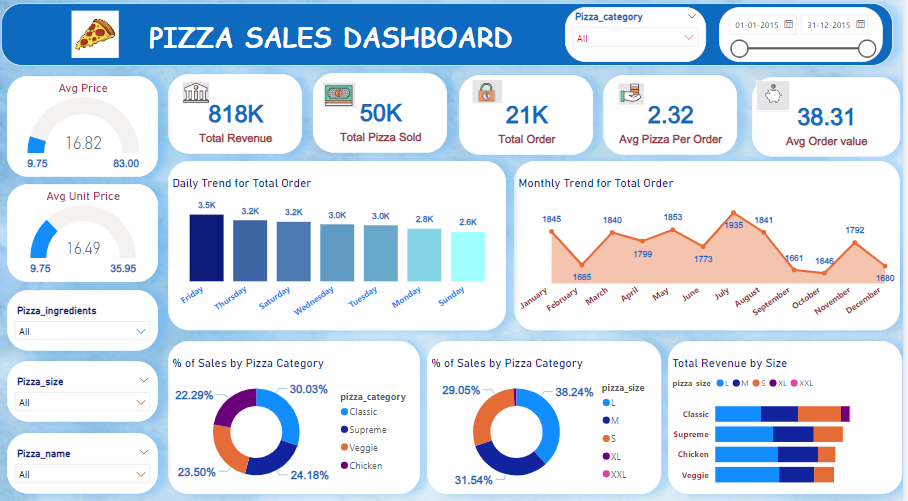

The page's visual inventory and layout, read from the dashboard file:
{"tool":"powerbi","page":{"name":"Page 1","canvas":[1280,720],"ordinal":0},"visuals":[{"type":"textbox","box":[2.8,11.3,1264.3,89.3],"z":0},{"type":"card","fields":{"Values":["pizza_sales.Total Revenue"]},"box":[239.5,112,189.9,113.4],"z":1000},{"type":"card","fields":{"Values":["pizza_sales.Avg Order value"]},"box":[1067.2,116.2,209.8,113.4],"z":2000},{"type":"card","fields":{"Values":["pizza_sales.Avg Pizza Per Order"]},"box":[856.1,113.4,189.9,113.4],"z":3000},{"type":"card","fields":{"Values":["pizza_sales.Total Order"]},"box":[652,113.4,189.9,113.4],"z":4000},{"type":"card","fields":{"Values":["pizza_sales.Total Pizza Sold"]},"box":[445,110.6,189.9,113.4],"z":5000},{"type":"areaChart","title":"Monthly Trend for Total Order","fields":{"Category":["pizza_sales.order_date.Variation.Date Hierarchy.Month"],"Y":["pizza_sales.Total Order"]},"box":[729.9,235.3,547.1,239.5],"z":6000},{"type":"slicer","fields":{"Values":["pizza_sales.pizza_category"]},"box":[802.2,17,199.8,78],"z":7000},{"type":"slicer","fields":{"Values":["pizza_sales.order_date"]},"box":[1020.5,17,232.4,78],"z":8000},{"type":"image","box":[870.2,120.5,51,39.7],"z":9000},{"type":"image","box":[455,116.2,55.3,51],"z":10000},{"type":"image","box":[666.1,110.6,52.4,53.9],"z":11000},{"type":"image","box":[255.1,116.2,48.2,43.9],"z":12000},{"type":"image","box":[1067.2,116.2,58.1,53.9],"z":13000},{"type":"clusteredColumnChart","title":"Daily Trend for Total Order","fields":{"Y":["pizza_sales.Total Order"],"Category":["pizza_sales.Day Name"]},"box":[239.5,235.3,479.1,239.5],"z":14000},{"type":"donutChart","title":"% of Sales by Pizza Category","fields":{"Category":["pizza_sales.pizza_category"],"Y":["pizza_sales.Total Pizza Sold"]},"box":[239.5,490.4,357.2,216.9],"z":15000},{"type":"donutChart","title":"% of Sales by Pizza Category","fields":{"Category":["pizza_sales.pizza_size"],"Y":["pizza_sales.Total Pizza Sold"]},"box":[606.6,490.4,331.7,216.9],"z":16000},{"type":"barChart","title":"Total Revenue by Size","fields":{"Category":["pizza_sales.pizza_category"],"Y":["pizza_sales.Total Revenue"],"Series":["pizza_sales.pizza_size"]},"box":[948.2,490.4,331.7,216.9],"z":17000},{"type":"slicer","fields":{"Values":["pizza_sales.pizza_name"]},"box":[11.3,620.8,214,86.5],"z":18000},{"type":"slicer","fields":{"Values":["pizza_sales.pizza_ingredients"]},"box":[11.3,418.1,214,86.5],"z":19000},{"type":"slicer","fields":{"Values":["pizza_sales.pizza_size"]},"box":[11.3,518.7,214,86.5],"z":20000},{"type":"gauge","title":"Avg Price","fields":{"MinValue":["Min(pizza_sales.total_price)"],"MaxValue":["Max(pizza_sales.total_price)1"],"Y":["Avg(pizza_sales.total_price)2"]},"box":[11.3,114.8,214,143.1],"z":21000},{"type":"gauge","title":"Avg Unit Price","fields":{"MinValue":["Min(pizza_sales.unit_price)1"],"MaxValue":["Max(pizza_sales.unit_price)"],"Y":["Avg(pizza_sales.unit_price)"]},"box":[11.3,267.9,214,138.9],"z":22000},{"type":"image","box":[97.8,14.2,76.5,83.6],"z":23000}]}

Visuals, with their boxes in screenshot pixels (x1, y1, x2, y2), scaled from the page's 1280x720 canvas onto the 908x501 screenshot:
textbox: 2, 8, 899, 70
card - pizza_sales.Total Revenue: 170, 78, 305, 157
card - pizza_sales.Avg Order value: 757, 81, 906, 160
card - pizza_sales.Avg Pizza Per Order: 607, 79, 742, 158
card - pizza_sales.Total Order: 463, 79, 597, 158
card - pizza_sales.Total Pizza Sold: 316, 77, 450, 156
"Monthly Trend for Total Order" areaChart: 518, 164, 906, 330
slicer - pizza_sales.pizza_category: 569, 12, 711, 66
slicer - pizza_sales.order_date: 724, 12, 889, 66
image: 617, 84, 653, 111
image: 323, 81, 362, 116
image: 473, 77, 510, 114
image: 181, 81, 215, 111
image: 757, 81, 798, 118
"Daily Trend for Total Order" clusteredColumnChart: 170, 164, 510, 330
"% of Sales by Pizza Category" donutChart: 170, 341, 423, 492
"% of Sales by Pizza Category" donutChart: 430, 341, 666, 492
"Total Revenue by Size" barChart: 673, 341, 907, 492
slicer - pizza_sales.pizza_name: 8, 432, 160, 492
slicer - pizza_sales.pizza_ingredients: 8, 291, 160, 351
slicer - pizza_sales.pizza_size: 8, 361, 160, 421
"Avg Price" gauge: 8, 80, 160, 179
"Avg Unit Price" gauge: 8, 186, 160, 283
image: 69, 10, 124, 68
